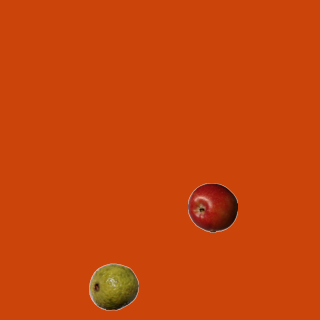Apple Braeburn: (187, 182, 237, 232)
Guava: (88, 261, 138, 311)
